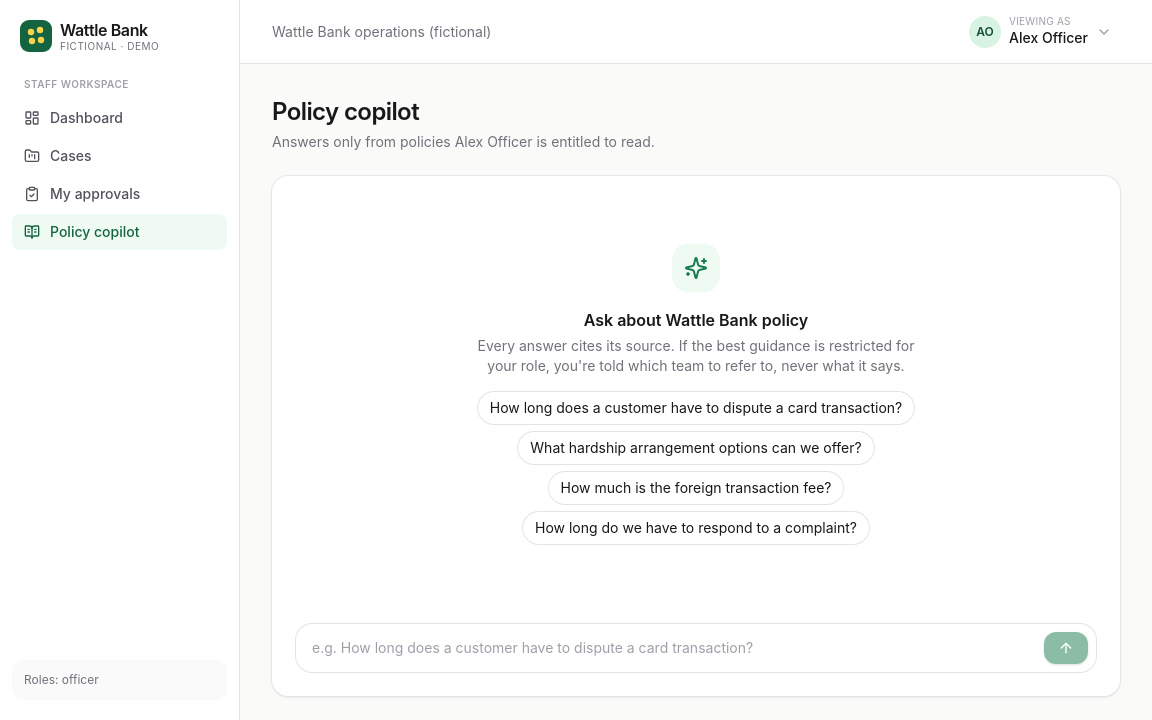
Scenario: app › staff copilot: opens without a login and streams a cited answer
Click the button "How long does a customer have to dispute a card transaction?": (696, 408) left=478, top=392, right=914, bottom=424
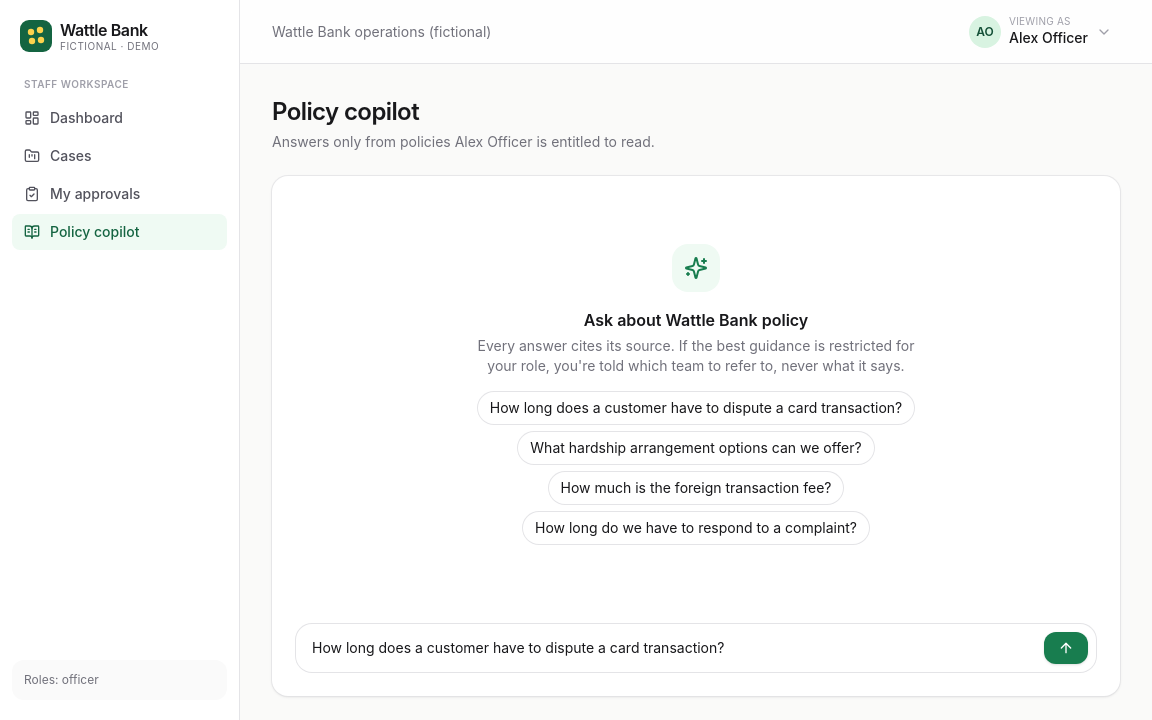
Submit the form, box left=296, top=624, right=1096, bottom=672
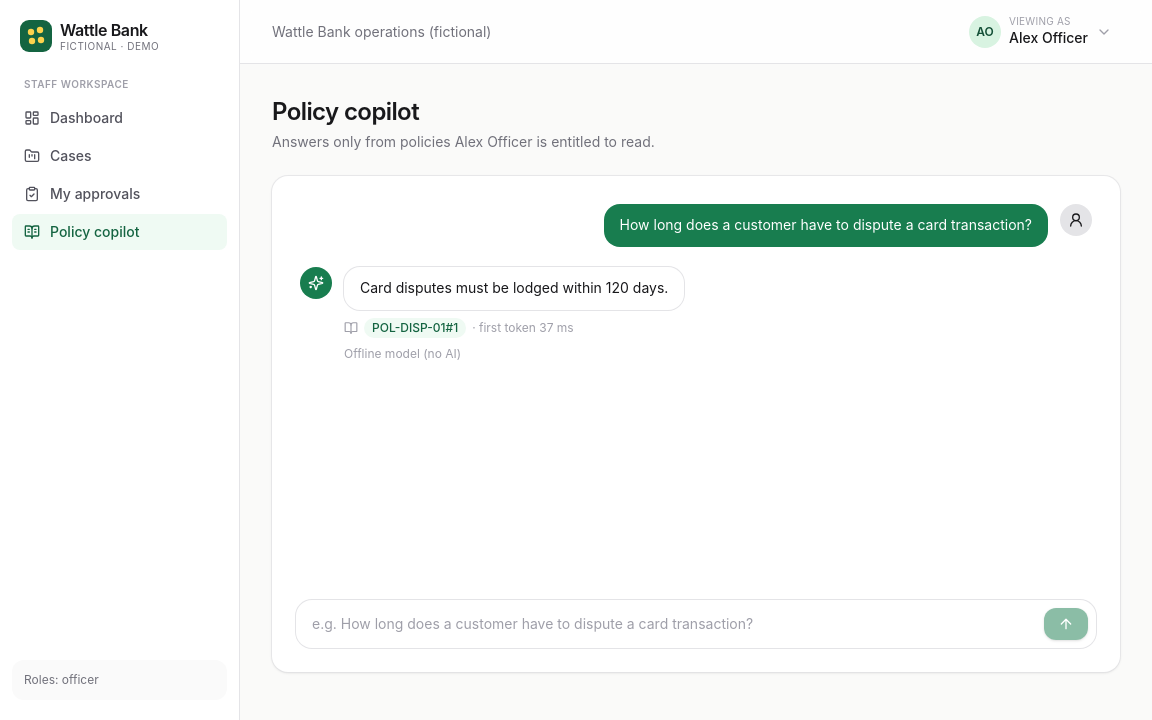
Expected: the text "POL-DISP-01#1" is shown, left=364, top=318, right=466, bottom=338
Expected: the text "Card disputes must be lodged within 120 days." is shown, left=360, top=277, right=668, bottom=300
